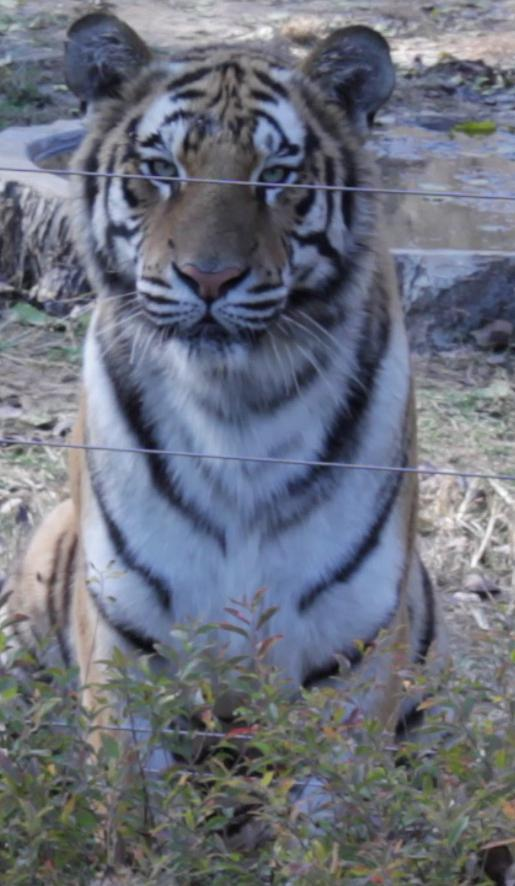tiger: (18, 11, 435, 717)
